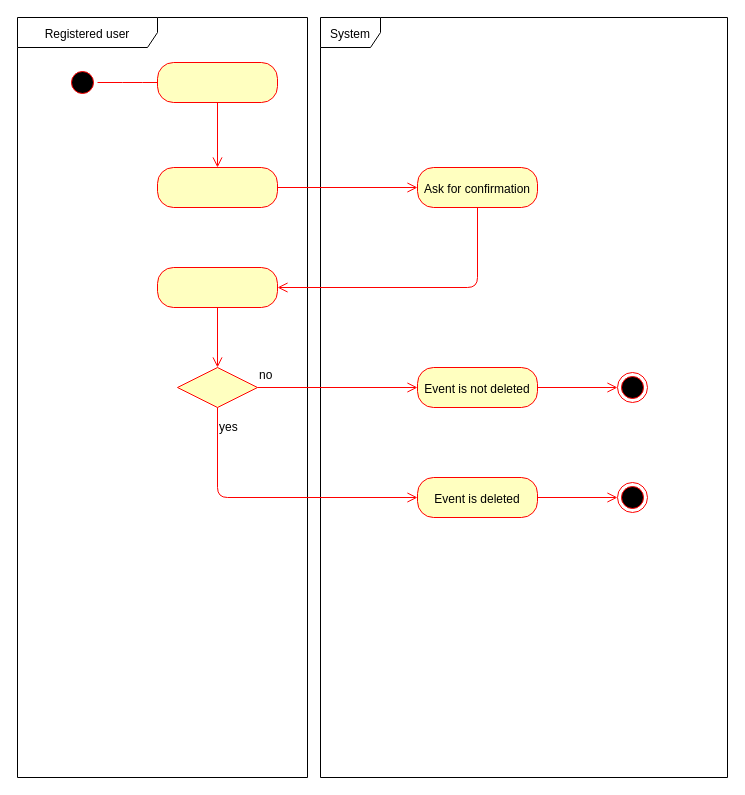
This 745x795 diagram has some shape labels left out. Here are the shapes that lost their labels. From the top down, the centre of each, then its label:
(217,82): View single event
(217,187): Delete event
(217,287): Confirm
